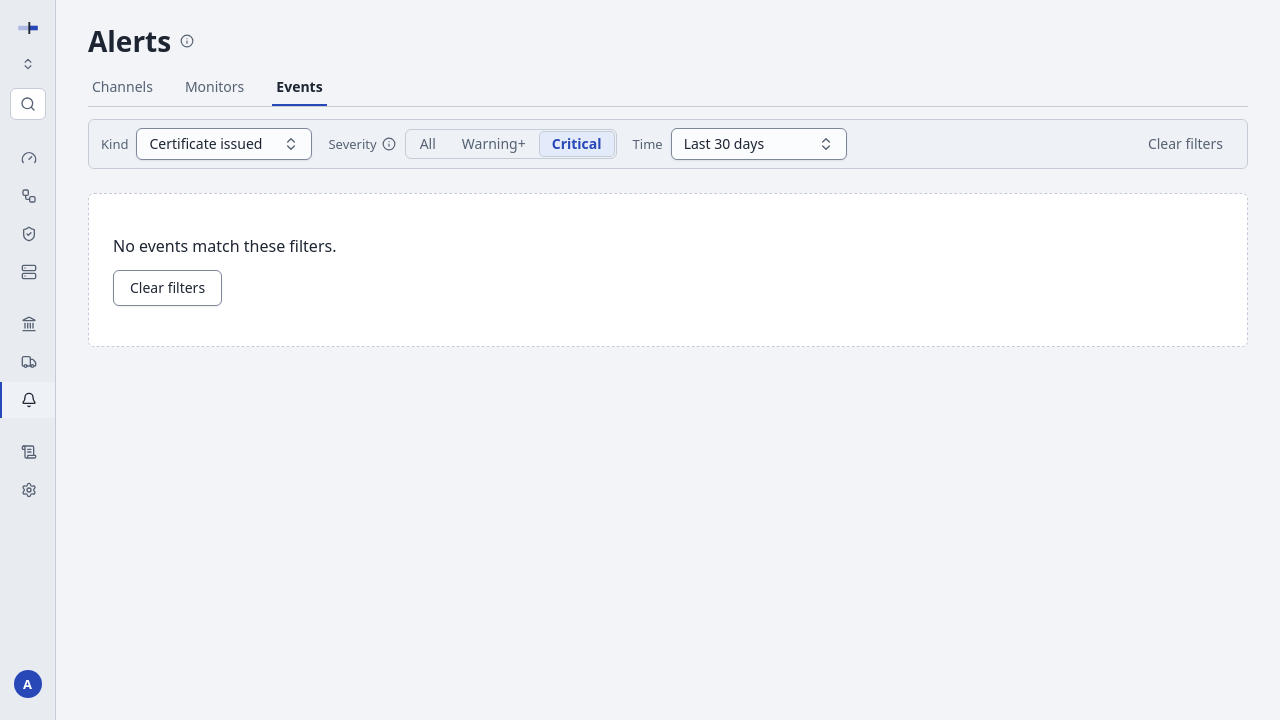
Test: clear filters resets all three
Click the button "Clear filters" in the row of "Time" at (1185, 144), box x1=1136 y1=128 x2=1235 y2=160
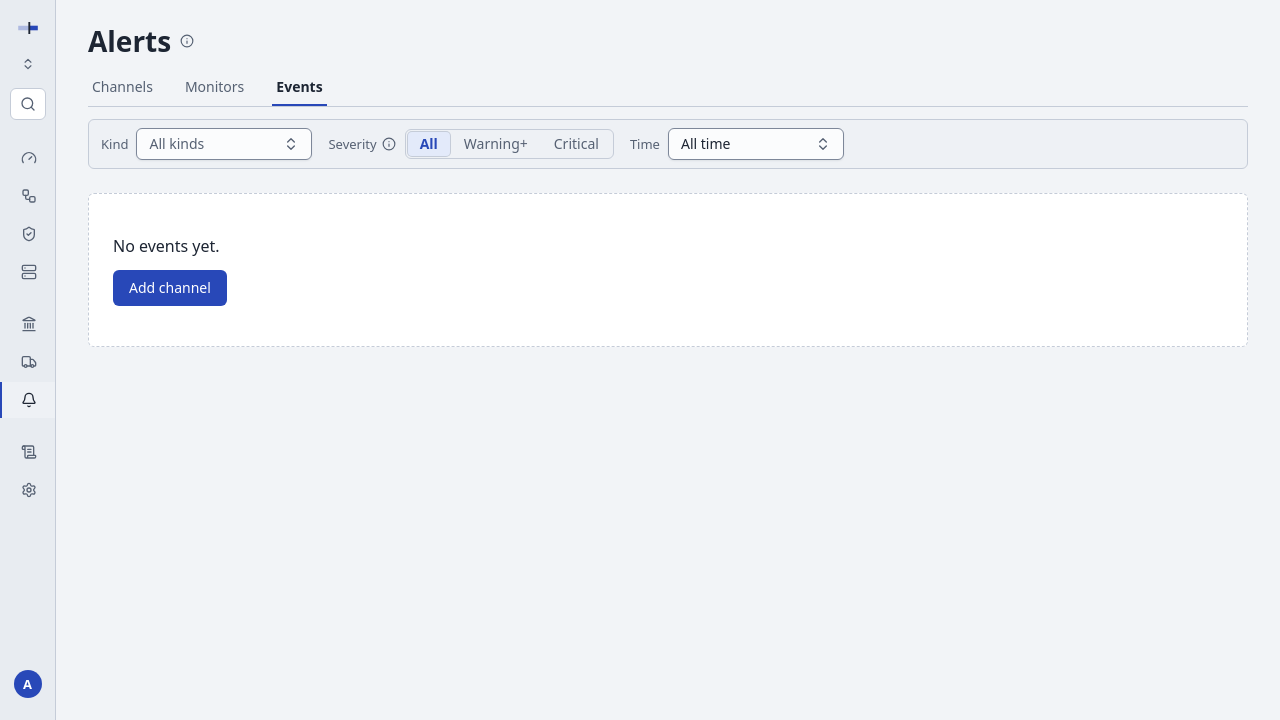
Expected: the dropdown labelled "time" reads "All time", x1=668 y1=128 x2=844 y2=160
